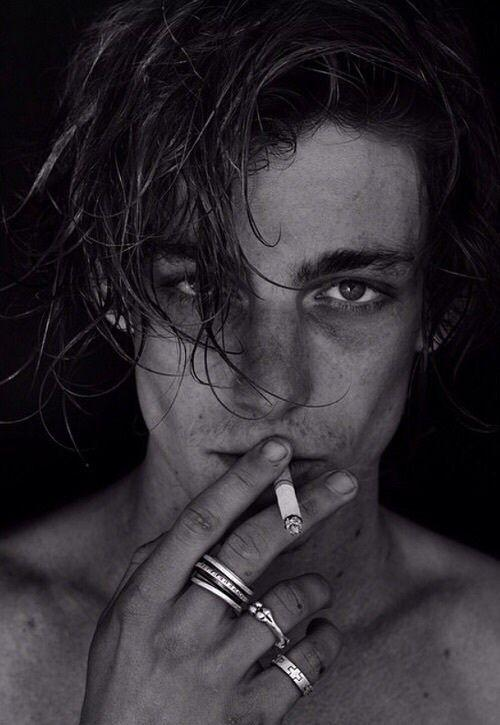cigarette: (273, 465, 305, 537)
